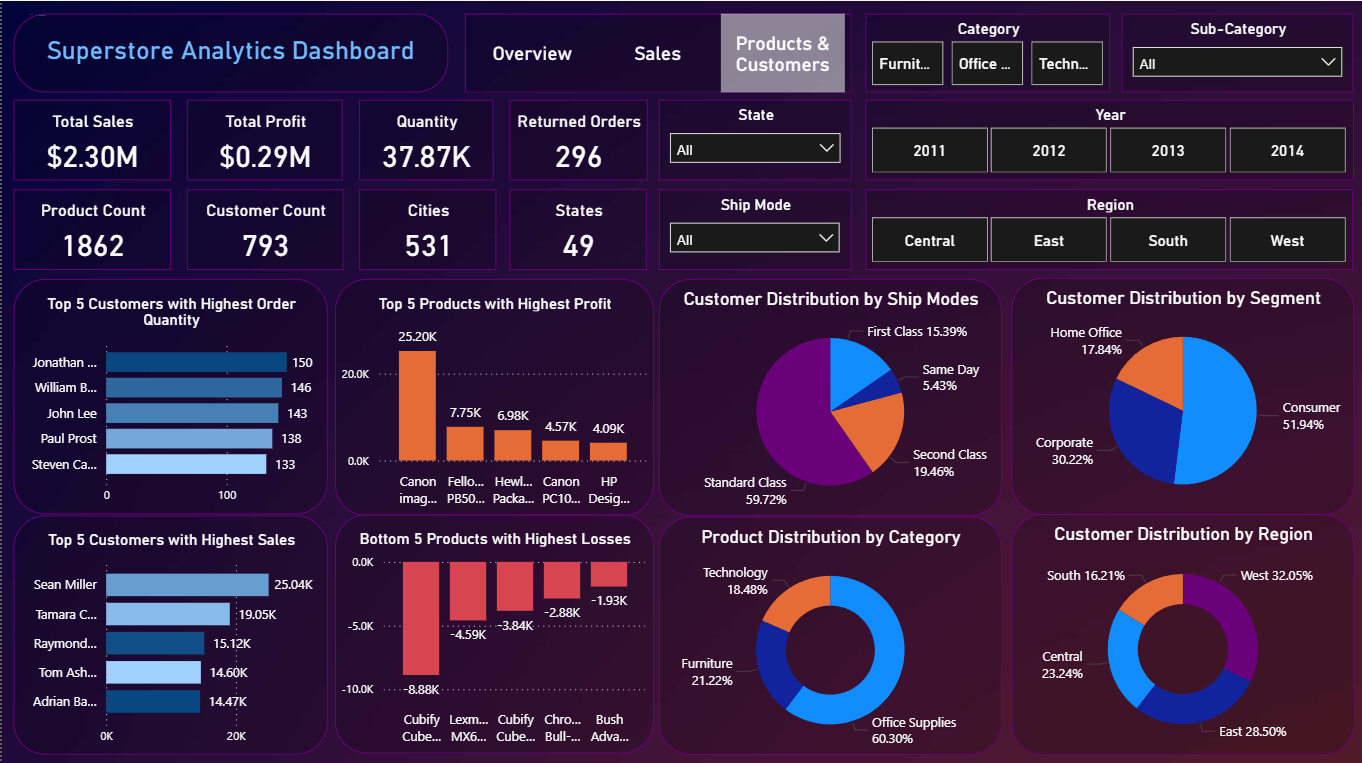

The dashboard page shown, as its layout file describes it:
{"tool":"powerbi","page":{"name":"Products & Customers","canvas":[1280,720],"ordinal":2},"visuals":[{"type":"textbox","box":[10.8,12,408.2,74.2],"z":0},{"type":"card","title":"Total Sales","fields":{"Values":["Orders.Sales"]},"box":[10.8,92.8,147.8,75.5],"z":1000},{"type":"shape","box":[434.8,11.9,363.6,74.4],"z":2000},{"type":"actionButton","box":[440.2,11.9,116.5,74.4],"z":3000},{"type":"actionButton","box":[557.8,11.9,116.5,74.4],"z":4000},{"type":"actionButton","box":[675.3,11.9,116.5,74.4],"z":5000},{"type":"slicer","title":"Sub-Category","fields":{"Values":["Orders.Sub-Category"]},"box":[1051.9,11.9,217.9,74.4],"z":6000},{"type":"advancedSlicerVisual","fields":{"Values":["Orders.Category"]},"box":[811.3,11.9,229.8,74.4],"z":7000},{"type":"advancedSlicerVisual","fields":{"Values":["Date Table.Year"]},"box":[811.3,92.8,458.5,75.5],"z":8000},{"type":"slicer","title":"State","fields":{"Values":["Orders.State"]},"box":[617.1,92.8,181.2,75.5],"z":9000},{"type":"card","title":"Total Profit","fields":{"Values":["Orders.Profit"]},"box":[173.7,92.8,146.7,75.5],"z":10000},{"type":"card","title":"Quantity","fields":{"Values":["Orders.Quantity"]},"box":[335.5,92.8,126.2,75.5],"z":11000},{"type":"columnChart","title":"Top 5 Products with Highest Profit","fields":{"Category":["Orders.Product Name"],"Y":["Orders.Profit"]},"box":[312.4,260.9,299.2,222.6],"z":12000},{"type":"columnChart","title":"Bottom 5 Products with Highest Losses","fields":{"Category":["Orders.Product Name"],"Y":["Orders.Profit"]},"box":[312.4,482.4,299.2,225],"z":13000},{"type":"barChart","title":"Top 5 Customers with Highest Order Quantity","fields":{"Category":["Orders.Customer Name"],"Y":["Orders.Quantity"]},"box":[10.8,260.9,295.6,221.4],"z":14000},{"type":"card","title":"Product Count","fields":{"Values":["Orders.Product ID"]},"box":[10.8,177.1,148.4,75.4],"z":15000},{"type":"card","title":"Customer Count","fields":{"Values":["Orders.Customer ID"]},"box":[173.6,177.1,147.2,75.4],"z":16000},{"type":"card","title":"Cities","fields":{"Values":["Orders.City"]},"box":[335.1,177.1,129.3,75.4],"z":17000},{"type":"slicer","title":"Ship Mode","fields":{"Values":["Orders.Ship Mode"]},"box":[617.6,177.1,180.7,75.4],"z":18000},{"type":"barChart","title":"Top 5 Customers with Highest Sales","fields":{"Category":["Orders.Customer Name"],"Y":["Orders.Sales"]},"box":[10.8,483.6,295.6,225],"z":19000},{"type":"advancedSlicerVisual","fields":{"Values":["Orders.Region"]},"box":[811.5,177.1,458.4,75.4],"z":20000},{"type":"card","title":"States","fields":{"Values":["Orders.State"]},"box":[476.4,177.1,129.3,75.4],"z":21000},{"type":"pieChart","title":"Customer Distribution by Ship Modes","fields":{"Y":["Orders.Customer Name"],"Category":["Orders.Ship Mode"]},"box":[617.6,260.9,322,222.6],"z":22000},{"type":"pieChart","title":"Customer Distribution by Segment","fields":{"Y":["Orders.Customer Name"],"Category":["Orders.Segment"]},"box":[948,259.7,322,222.6],"z":23000},{"type":"donutChart","title":"Product Distribution by Category","fields":{"Category":["Orders.Category"],"Y":["Orders.Product Name"]},"box":[617.6,484.8,322,223.8],"z":24000},{"type":"donutChart","title":"Customer Distribution by Region","fields":{"Y":["Orders.Customer Name"],"Category":["Orders.Region"]},"box":[948,482.4,322,226.2],"z":25000},{"type":"card","title":"Returned Orders","fields":{"Values":["Returns.ReturnedOrdersCount"]},"box":[476.8,92.8,129.5,75.5],"z":26000}]}

Visuals, with their boxes in screenshot pixels (x1, y1, x2, y2), scaled from the page's 1280x720 canvas onto the 1362x763 screenshot:
textbox: <region>11, 13, 446, 91</region>
"Total Sales" card: <region>11, 98, 169, 178</region>
shape: <region>463, 13, 850, 91</region>
actionButton: <region>468, 13, 592, 91</region>
actionButton: <region>594, 13, 717, 91</region>
actionButton: <region>719, 13, 843, 91</region>
"Sub-Category" slicer: <region>1119, 13, 1351, 91</region>
advancedSlicerVisual - Orders.Category: <region>863, 13, 1108, 91</region>
advancedSlicerVisual - Date Table.Year: <region>863, 98, 1351, 178</region>
"State" slicer: <region>657, 98, 849, 178</region>
"Total Profit" card: <region>185, 98, 341, 178</region>
"Quantity" card: <region>357, 98, 491, 178</region>
"Top 5 Products with Highest Profit" columnChart: <region>332, 276, 651, 512</region>
"Bottom 5 Products with Highest Losses" columnChart: <region>332, 511, 651, 750</region>
"Top 5 Customers with Highest Order Quantity" barChart: <region>11, 276, 326, 511</region>
"Product Count" card: <region>11, 188, 169, 268</region>
"Customer Count" card: <region>185, 188, 341, 268</region>
"Cities" card: <region>357, 188, 494, 268</region>
"Ship Mode" slicer: <region>657, 188, 849, 268</region>
"Top 5 Customers with Highest Sales" barChart: <region>11, 512, 326, 751</region>
advancedSlicerVisual - Orders.Region: <region>863, 188, 1351, 268</region>
"States" card: <region>507, 188, 645, 268</region>
"Customer Distribution by Ship Modes" pieChart: <region>657, 276, 1000, 512</region>
"Customer Distribution by Segment" pieChart: <region>1009, 275, 1351, 511</region>
"Product Distribution by Category" donutChart: <region>657, 514, 1000, 751</region>
"Customer Distribution by Region" donutChart: <region>1009, 511, 1351, 751</region>
"Returned Orders" card: <region>507, 98, 645, 178</region>
